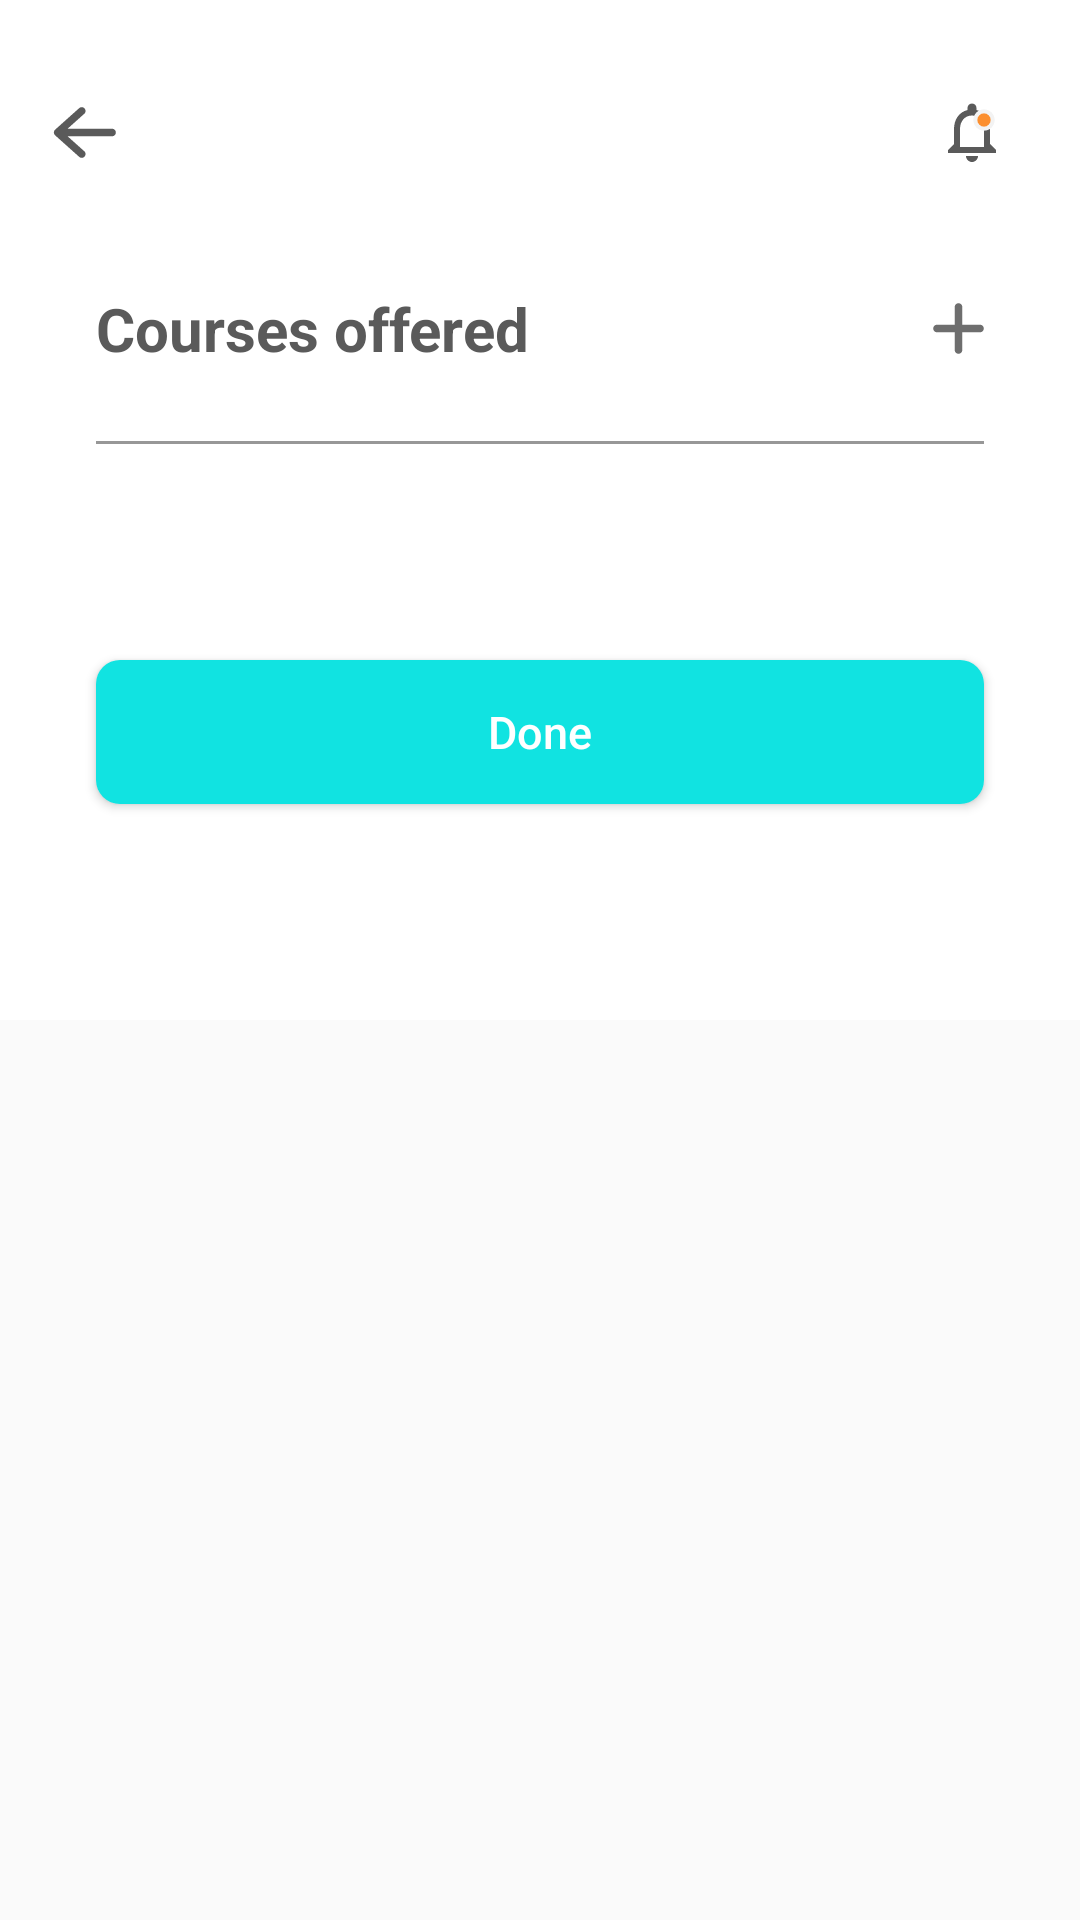

Where icons sit on this 1080x1920 app screen, as (x1, y1, x2, y2):
Add course: (933, 303, 984, 354)
notifications: (948, 103, 996, 162)
